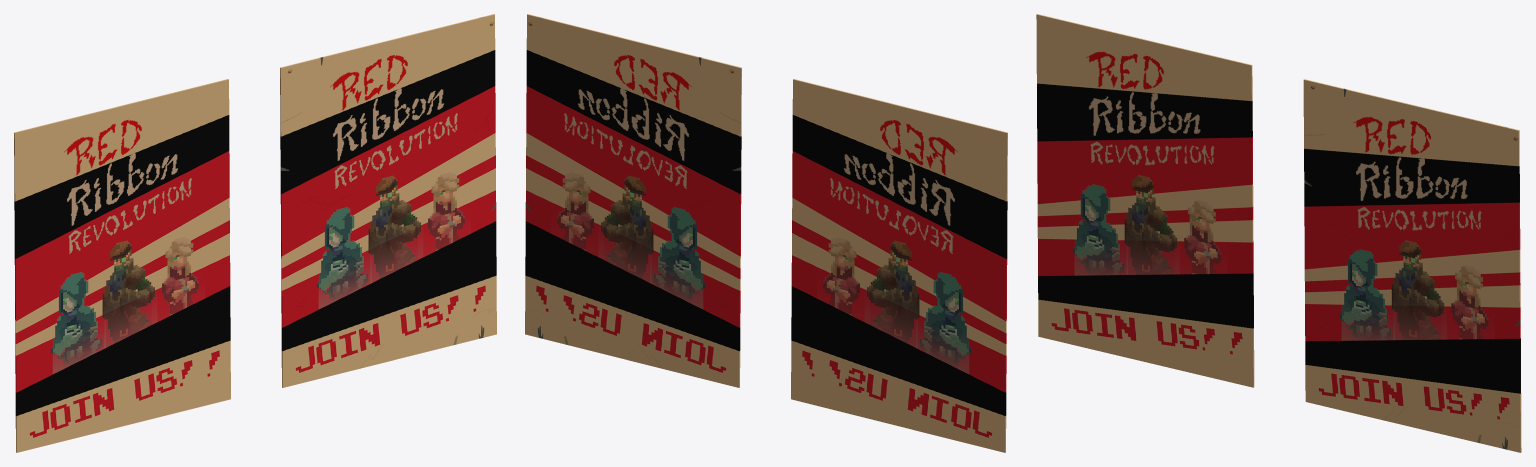
The model's file is cartel_02.FBX.
3 renders of one model, left to right at view 1: azimuth 30°, elevation 25°; view 2: azimuth 150°, elevation 25°; view 3: azimuth 330°, elevation 25°, orthographic.
Visible parts, largest first — view 1: paper_usado001, paper_usado002; view 2: paper_usado001, paper_usado002; view 3: paper_usado001, paper_usado002.
Boxes of the visible parts, x1=… form: paper_usado001: x1=280, y1=14, x2=496, y2=387; paper_usado002: x1=14, y1=79, x2=230, y2=452; paper_usado001: x1=525, y1=14, x2=741, y2=387; paper_usado002: x1=791, y1=79, x2=1007, y2=452; paper_usado001: x1=1303, y1=79, x2=1521, y2=452; paper_usado002: x1=1036, y1=14, x2=1254, y2=387.
Bounding box in the file's own units: 1.08 × 0.6886 × 0.003.
